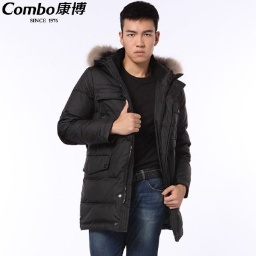face: (117, 1, 159, 63)
